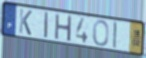4: (75, 17, 89, 46)
H: (54, 13, 73, 43)
I: (43, 10, 50, 40), (112, 20, 118, 50)
K: (18, 8, 33, 37)
O: (92, 19, 110, 48)
